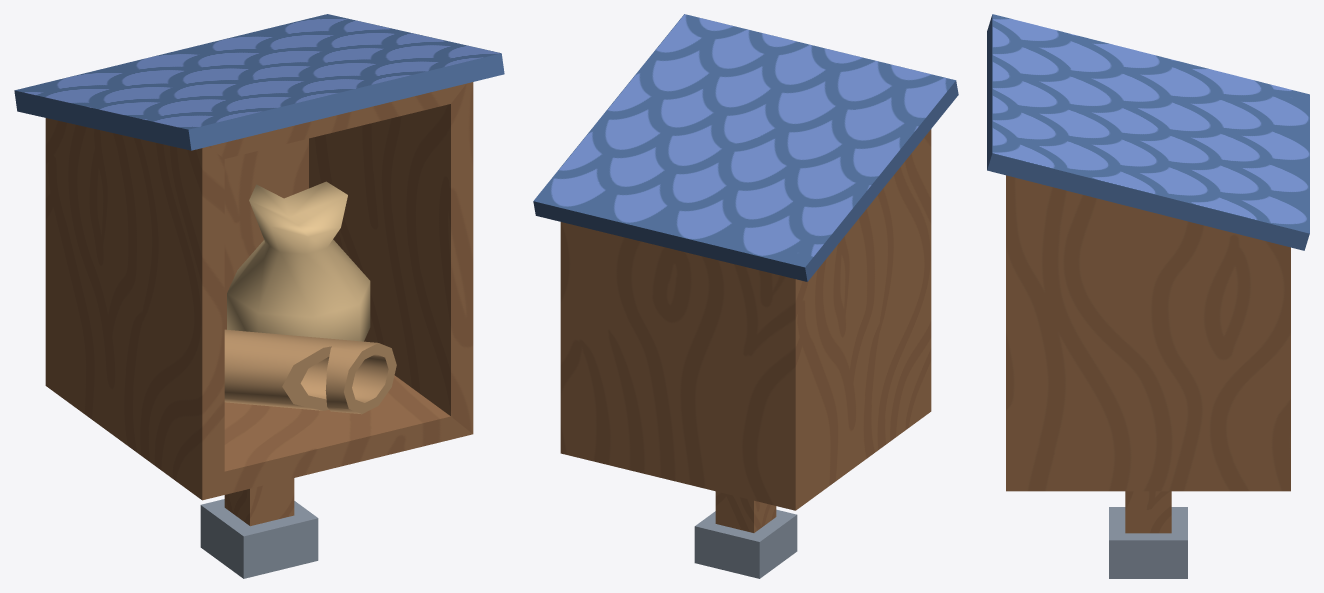
Rendered from shop.glb.
3 views of the same model, side by side, from view 1: azimuth 30°, elevation 25°; view 2: azimuth 150°, elevation 25°; view 3: azimuth 270°, elevation 25° (orthographic). The views are drawn at different scales.
Parts seen in each view (by area): view 1: Box, Roof, SeedBag, Whistle, Base; view 2: Box, Roof, Base; view 3: Box, Roof, Base.
Boxes of the visible parts, x1,y1,x2,y2 form: Box: [45, 82, 473, 500]; Roof: [14, 14, 504, 150]; SeedBag: [227, 181, 370, 341]; Whistle: [224, 329, 396, 414]; Base: [200, 478, 318, 578]; Box: [560, 129, 931, 510]; Roof: [533, 14, 958, 281]; Base: [694, 491, 797, 578]; Box: [1006, 175, 1290, 491]; Roof: [987, 14, 1309, 250]; Base: [1109, 491, 1187, 578].
Size of the model in its own units: 0.9561 by 1.53 by 0.9362.
Materials: 2 (2 with a texture image).
